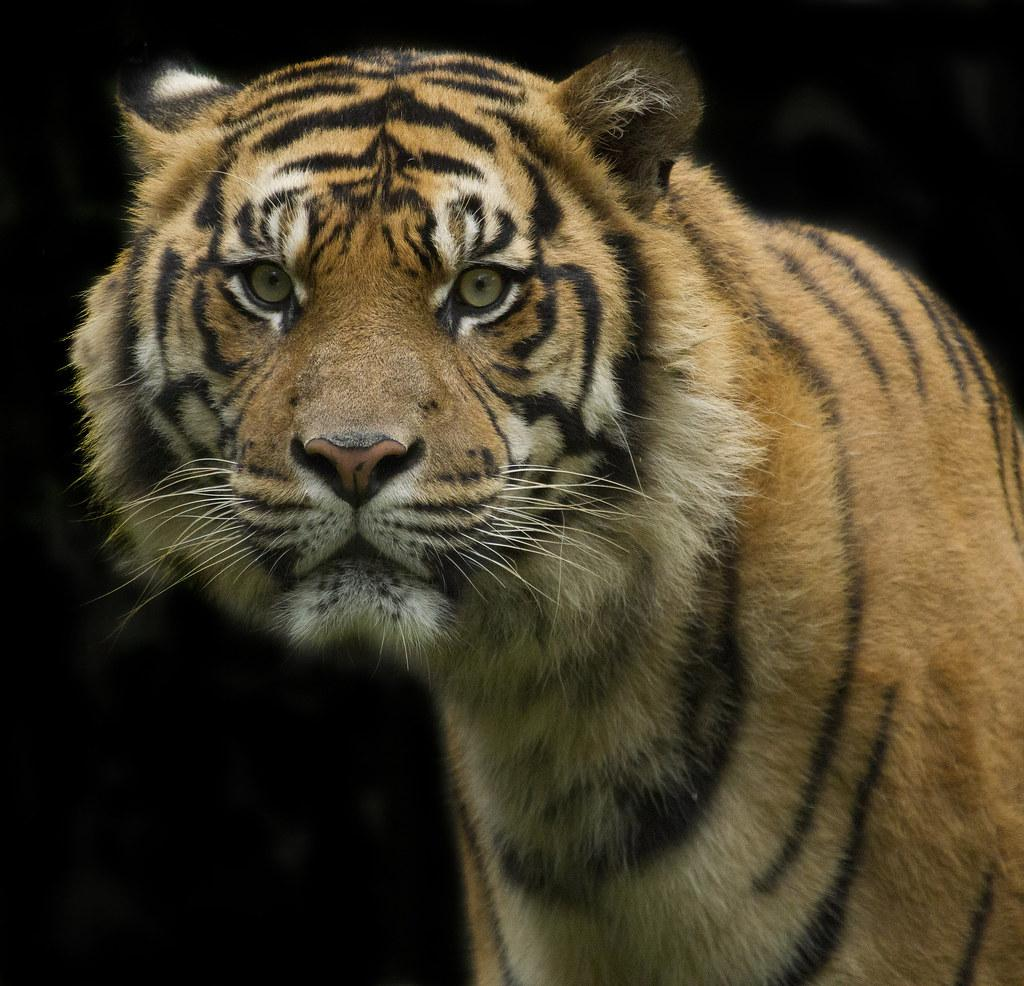tiger: (63, 38, 1023, 984)
